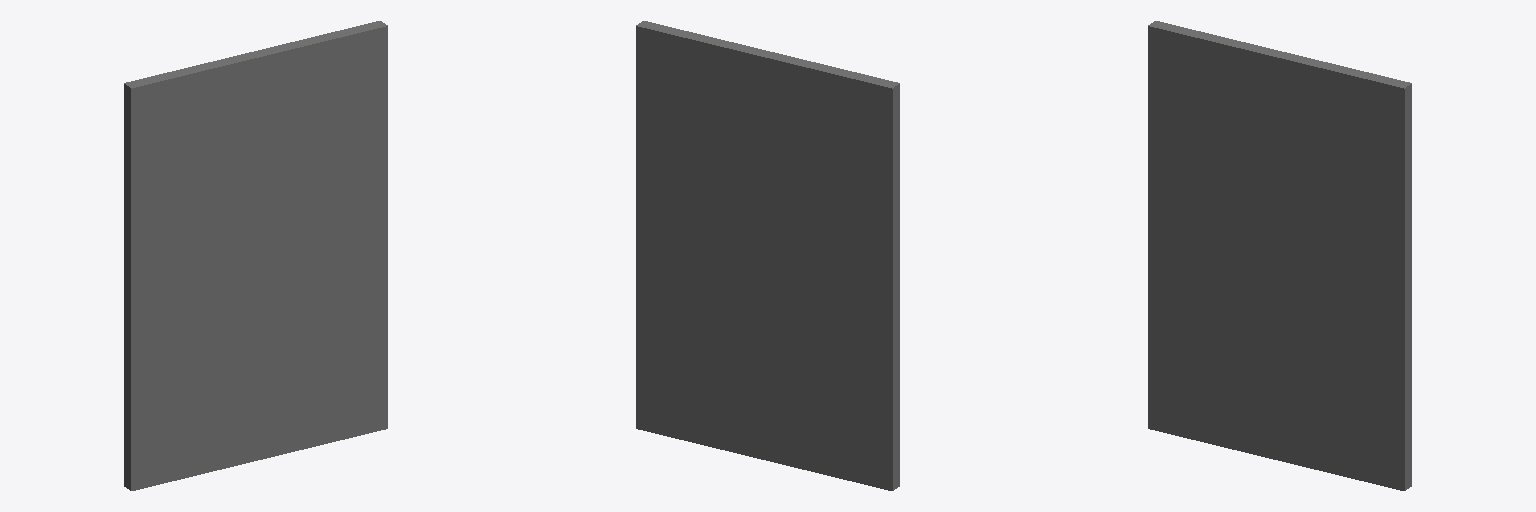
URDF robot description (simple_wall):
<?xml version="1.0"?>

<robot name="simple_wall">

  <link name="wall">

    <visual>
      <geometry>
        <box size="2.0 0.1 3.0"/> <!-- width, thickness, height -->
      </geometry>

      <material name="gray">
        <color rgba="0.5 0.5 0.5 1.0"/>
      </material>
    </visual>

    <collision>
      <geometry>
        <box size="2.0 0.1 3.0"/>
      </geometry>
    </collision>

    <inertial>
      <mass value="0.0"/> <!-- Static object -->
      <inertia ixx="0.0" ixy="0.0" ixz="0.0" iyy="0.0" iyz="0.0" izz="0.0"/>
    </inertial>

  </link>

</robot>

--- Facts derived from the render (not from the file) ---
Views: 3 orthographic renders of the robot side by side, from view 1: azimuth 30°, elevation 25°; view 2: azimuth 150°, elevation 25°; view 3: azimuth 330°, elevation 25°.
Model simple_wall with 1 links and 0 joints (none), rooted at wall, posed every joint at zero.
Visible links, largest first — view 1: wall; view 2: wall; view 3: wall.
Boxes of the visible links, x1,y1,x2,y2 form: wall: (124, 21, 387, 490); wall: (636, 21, 899, 490); wall: (1148, 21, 1411, 490).
Bounding box of the posed robot: 2 × 0.1 × 3 m (x, y, z).
Geometry: primitives only (box / cylinder / sphere), no mesh files.